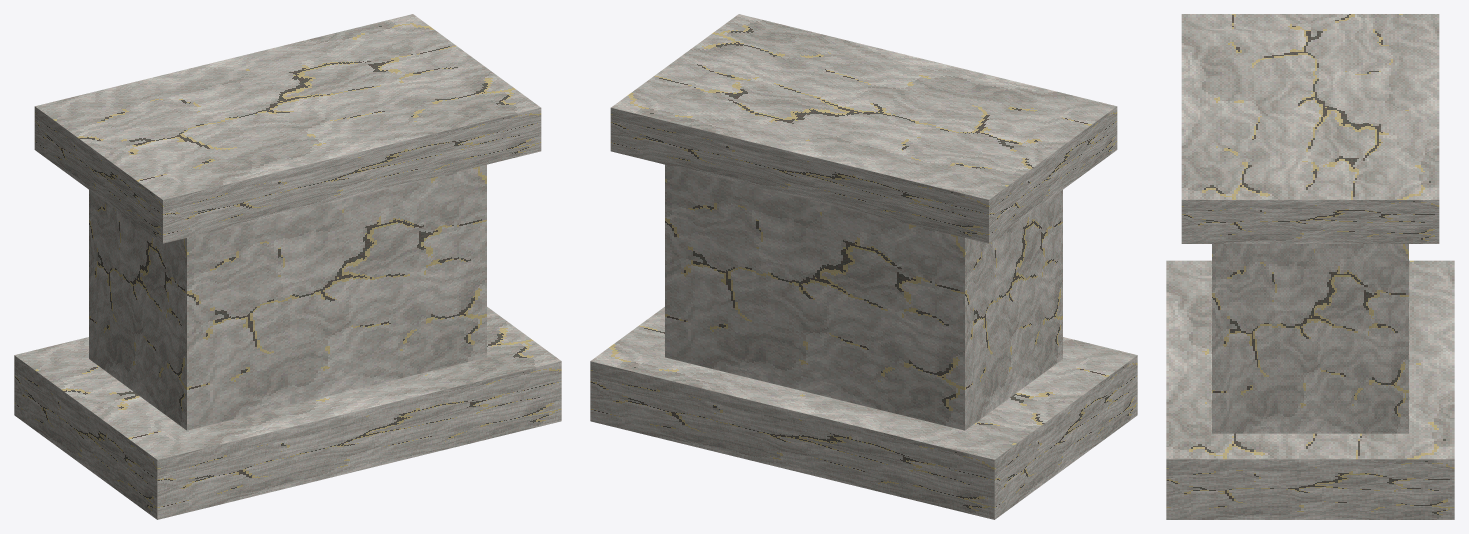
File: cidade_altar.glb
3 views of the same model, side by side, from view 1: azimuth 30°, elevation 25°; view 2: azimuth 150°, elevation 25°; view 3: azimuth 270°, elevation 25° (orthographic).
Visible parts, largest first — view 1: cidade_altar; view 2: cidade_altar; view 3: cidade_altar.
Part boxes in pixels (x1=…): cidade_altar: x1=14, y1=14, x2=561, y2=519; cidade_altar: x1=590, y1=14, x2=1137, y2=519; cidade_altar: x1=1166, y1=14, x2=1454, y2=519.
Size of the model in its own units: 1.55 by 1.14 by 0.95.
Materials: 1 (1 with a texture image).
